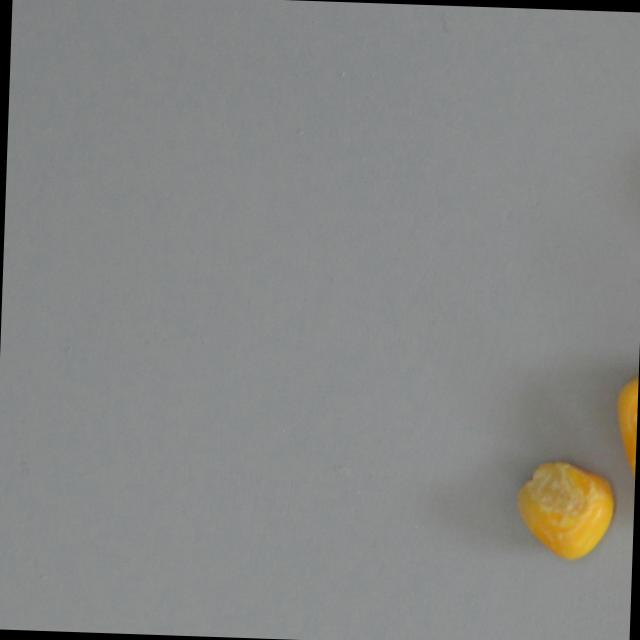no_desgerminado: (512, 456, 615, 560), (611, 358, 639, 534)
